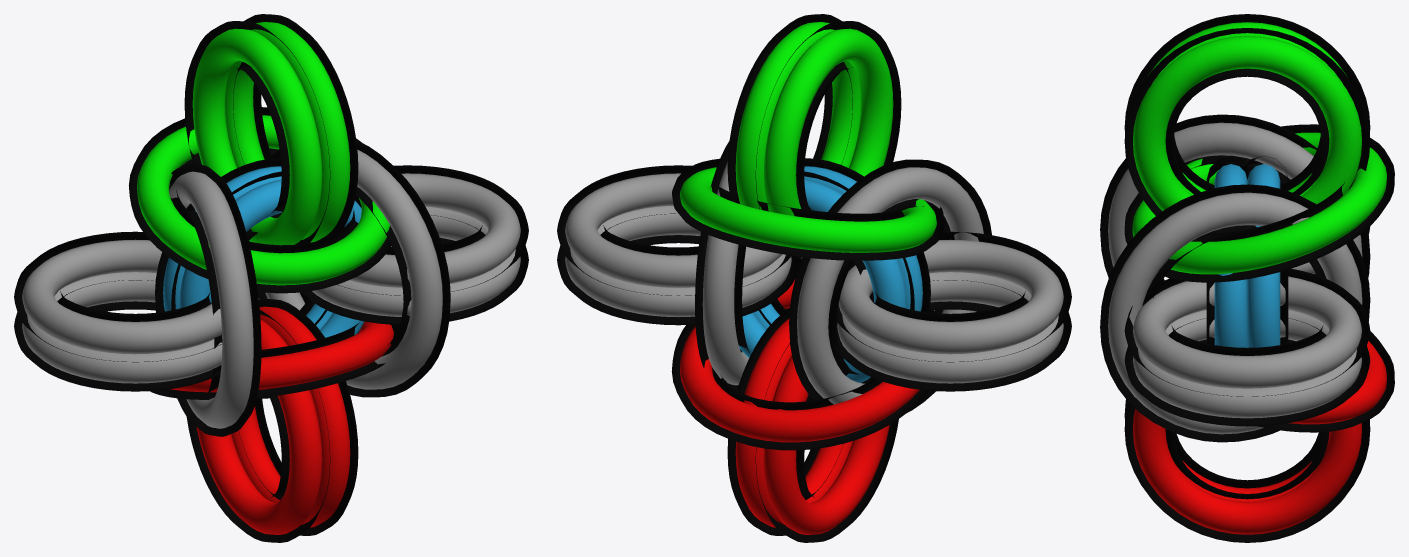
The model's file is bweg_step_07.glb.
3 views of the same model, side by side, from view 1: azimuth 30°, elevation 25°; view 2: azimuth 150°, elevation 25°; view 3: azimuth 270°, elevation 25° (orthographic).
Visible parts, largest first — view 1: Torus.005, Torus.014, Torus.006, Torus.010, Torus.011, Torus.004, Torus.003, Torus.007, Torus.002, Torus.009, Torus.008, Torus.012 (+2 smaller); view 2: Torus.006, Torus.010, Torus.005, Torus.014, Torus.012, Torus.007, Torus.009, Torus.004, Torus.008, Torus.003, Torus.002, Torus.011 (+2 smaller); view 3: Torus.004, Torus.011, Torus.009, Torus.002, Torus.014, Torus.008, Torus.010, Torus.005, Torus, Torus.001, Torus.012, Torus.003.
Part boxes in pixels (box(x1,y1,x2,y2)): Torus.005: box(184, 21, 330, 245); Torus.014: box(128, 107, 391, 293); Torus.006: box(14, 231, 221, 362); Torus.010: box(156, 163, 261, 436); Torus.011: box(258, 140, 450, 397); Torus.004: box(225, 14, 358, 242); Torus.003: box(186, 310, 330, 542); Torus.007: box(14, 272, 222, 391); Torus.002: box(231, 298, 358, 535); Torus.009: box(337, 165, 528, 295); Torus.008: box(301, 206, 528, 325); Torus.012: box(150, 321, 399, 399); Torus.006: box(835, 231, 1071, 362); Torus.010: box(789, 159, 991, 413); Torus.005: box(755, 21, 901, 257); Torus.014: box(672, 158, 944, 260); Torus.012: box(671, 265, 934, 450); Torus.007: box(833, 272, 1071, 391); Torus.009: box(557, 165, 791, 295); Torus.004: box(727, 14, 860, 209); Torus.008: box(557, 206, 799, 325); Torus.003: box(755, 343, 898, 542); Torus.002: box(727, 308, 852, 535); Torus.011: box(695, 141, 801, 389); Torus.004: box(1124, 28, 1370, 215); Torus.011: box(1100, 184, 1370, 442); Torus.009: box(1124, 268, 1370, 396); Torus.002: box(1124, 402, 1370, 542); Torus.014: box(1124, 124, 1394, 282); Torus.008: box(1124, 310, 1370, 426); Torus.010: box(1100, 114, 1370, 281); Torus.005: box(1124, 14, 1370, 196); Torus: box(1242, 156, 1288, 347); Torus.001: box(1206, 156, 1252, 347); Torus.012: box(1258, 331, 1394, 432); Torus.003: box(1124, 399, 1369, 502).
Bounding box in the file's own units: 6.88 × 6.88 × 3.6.
